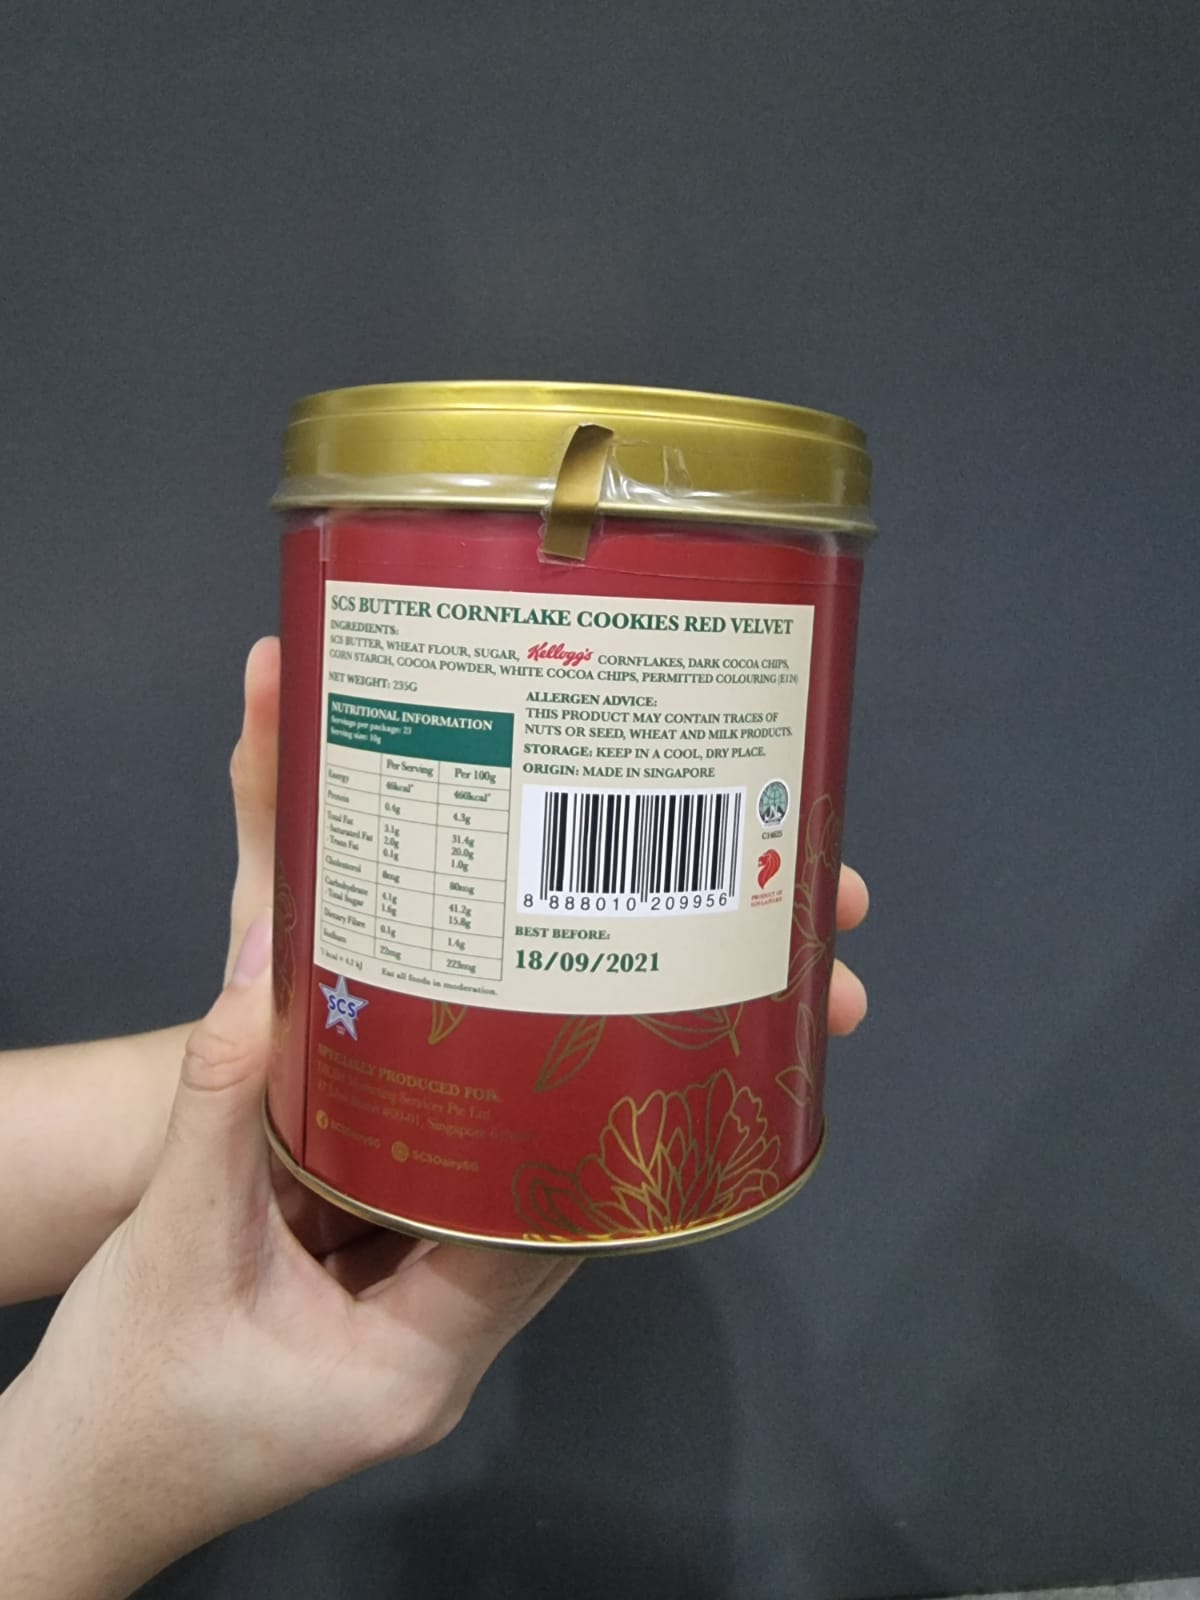Biscuits: (255, 383, 829, 1225)
